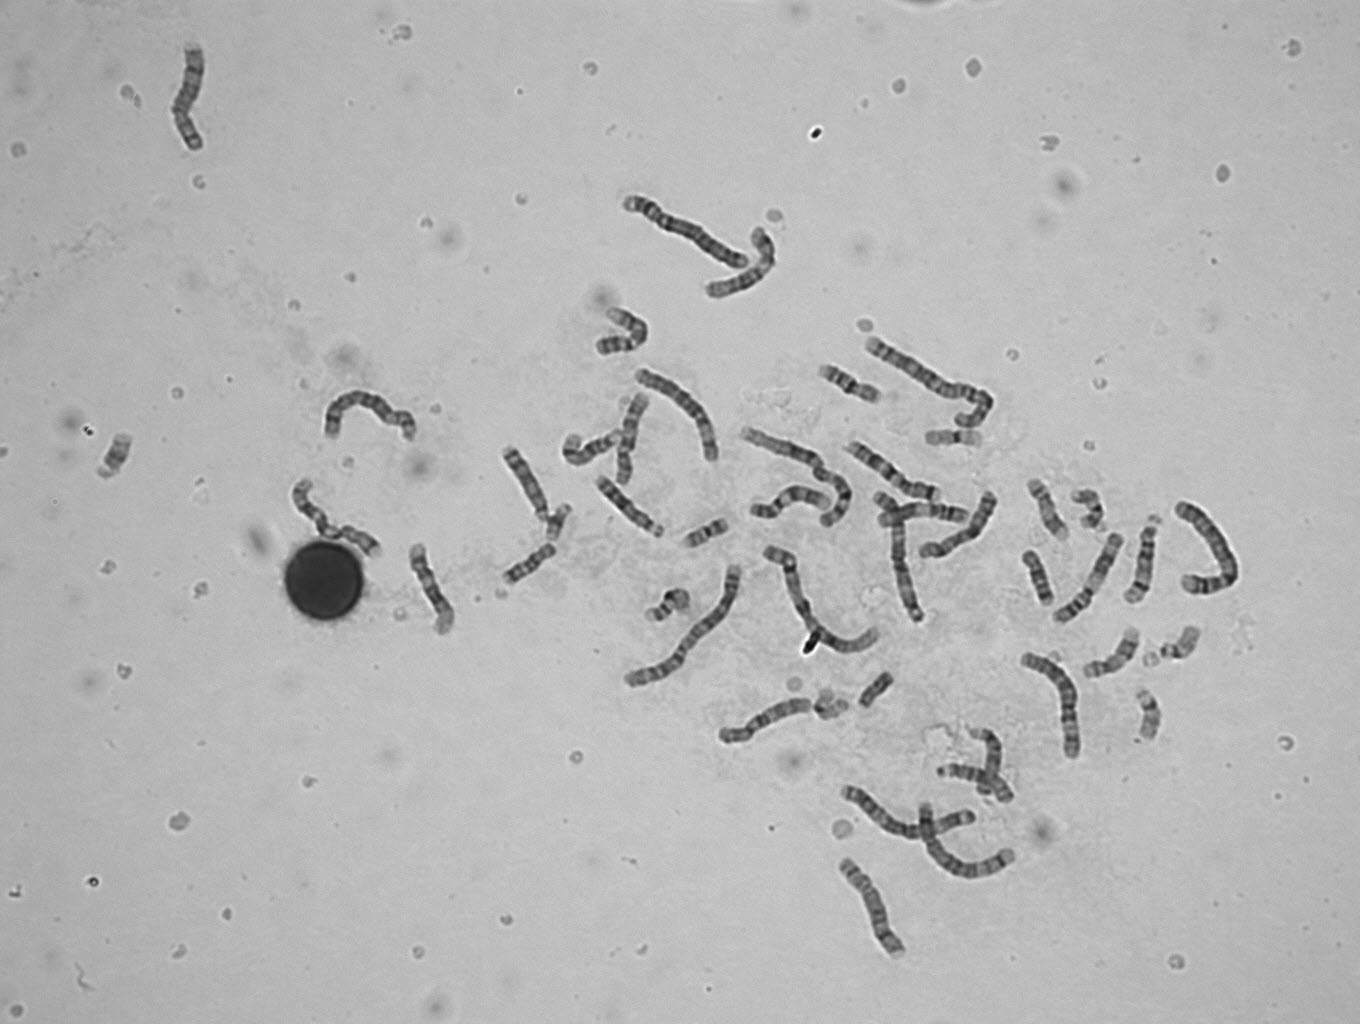chromosomes: (618, 559, 746, 693), (760, 543, 886, 658), (863, 335, 997, 430), (620, 195, 754, 276), (632, 362, 724, 466), (288, 469, 387, 564), (913, 800, 1018, 887), (1037, 529, 1129, 628), (838, 780, 980, 842), (869, 488, 930, 631), (831, 857, 911, 964), (1017, 651, 1086, 766), (913, 487, 1006, 563), (841, 441, 948, 504), (309, 383, 423, 441), (701, 225, 779, 309), (1175, 497, 1241, 596), (404, 541, 466, 643), (168, 31, 212, 156), (591, 475, 669, 546), (710, 693, 814, 744), (1118, 511, 1166, 608), (496, 445, 553, 524), (931, 760, 1021, 808), (736, 423, 826, 469), (1023, 477, 1077, 544), (587, 305, 650, 362), (617, 390, 653, 490), (1078, 623, 1143, 678), (870, 500, 973, 531), (816, 360, 884, 407), (744, 486, 834, 521), (964, 720, 1004, 796), (499, 542, 562, 589), (811, 469, 857, 532), (556, 429, 626, 470), (1017, 547, 1062, 610), (1130, 682, 1170, 748), (638, 586, 695, 623), (678, 516, 733, 553), (1068, 486, 1107, 534), (811, 687, 860, 725), (921, 429, 990, 456), (1158, 623, 1203, 663), (859, 669, 896, 711), (545, 499, 575, 542)
